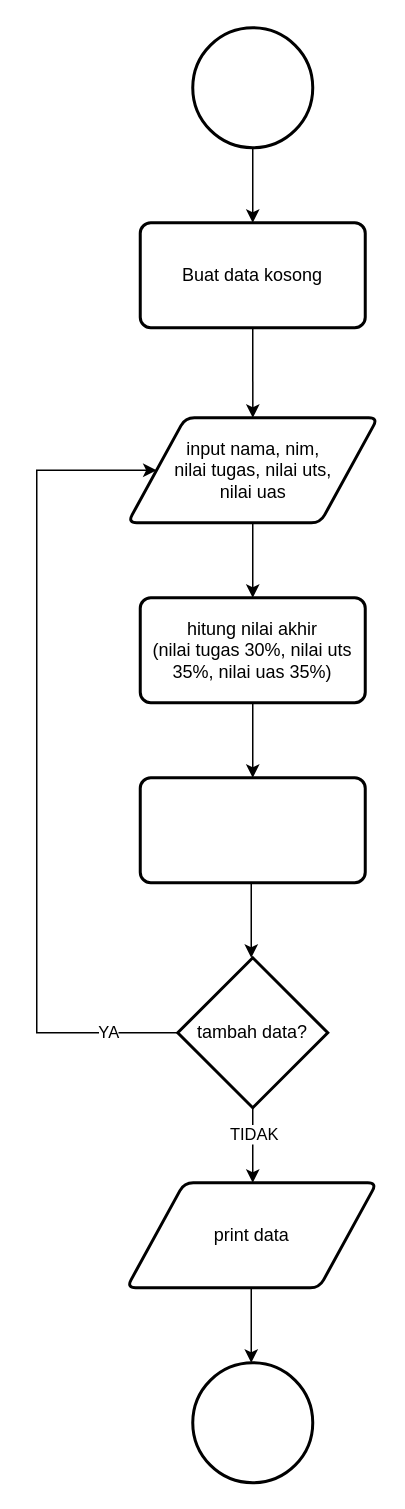
The diagram is 405 pixels wide and 1509 high, and some of its shapes have lost their labels. The box of each missing label's shape, as (x1, y1, x2, y2) in pixels:
masukan ke dalam data: (138, 776, 366, 884)
MULAI: (190, 26, 314, 148)
SELESAI: (190, 1360, 314, 1484)
